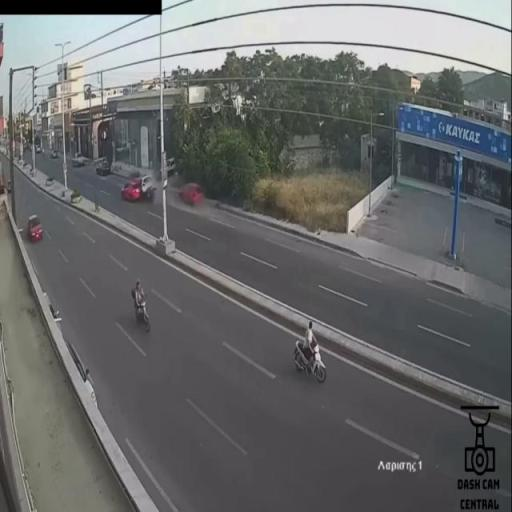小汽车: (177, 186, 212, 206), (25, 216, 45, 243), (94, 156, 112, 177), (70, 152, 86, 167)
小汽车撞小汽车: (119, 176, 157, 203)
自行车: (290, 320, 334, 385), (129, 282, 155, 332)
